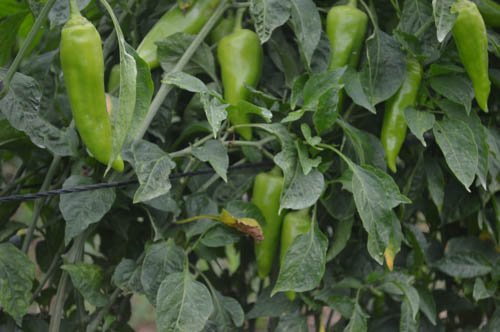ChiliPepper: (58, 27, 125, 170), (136, 1, 219, 71), (217, 33, 263, 140), (324, 7, 368, 114), (451, 8, 492, 112), (383, 60, 418, 172), (249, 172, 283, 279), (280, 215, 312, 303)
